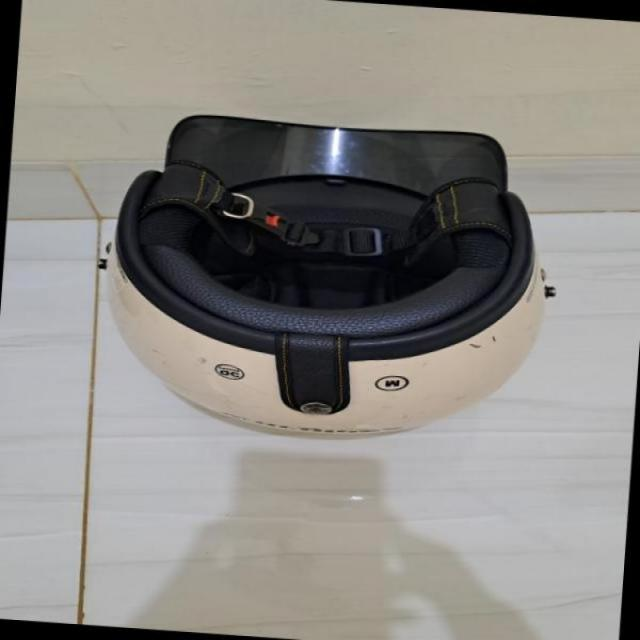Helmet: (95, 93, 560, 465)
